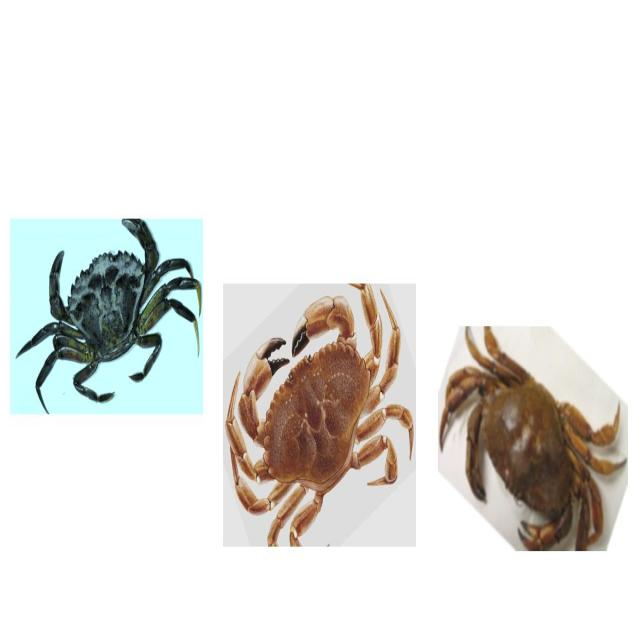egc: (9, 218, 200, 414)
jonah_crab: (223, 283, 412, 548)
rock_crab: (439, 326, 625, 550)
